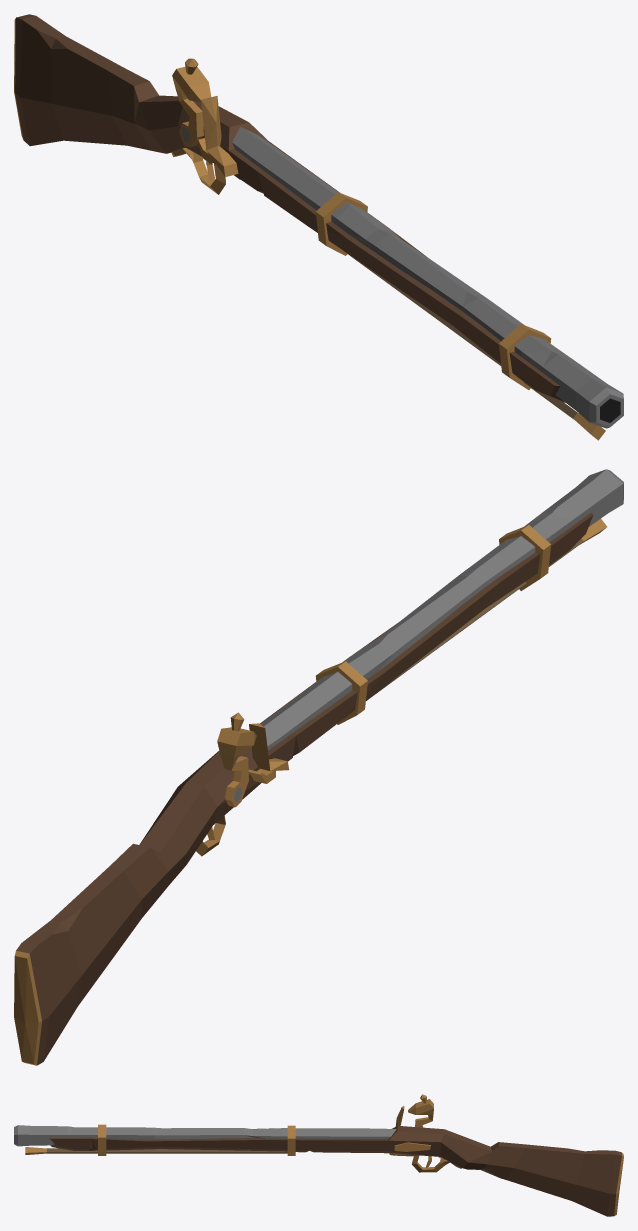
File: SM_Wep_Rifle_01.glb
The picture shows the model from 3 angles, top to bottom: view 1: azimuth 30°, elevation 25°; view 2: azimuth 150°, elevation 25°; view 3: azimuth 270°, elevation 25°; orthographic projection. The views are drawn at different scales.
Visible parts, largest first — view 1: SM_Wep_Rifle_01; view 2: SM_Wep_Rifle_01; view 3: SM_Wep_Rifle_01.
Part boxes in pixels (<box>): SM_Wep_Rifle_01: <box>14,14,623,440</box>; SM_Wep_Rifle_01: <box>14,469,623,1065</box>; SM_Wep_Rifle_01: <box>14,1094,623,1216</box>.
Bounding box in the file's own units: 0.000828 × 0.00324 × 0.0156.
